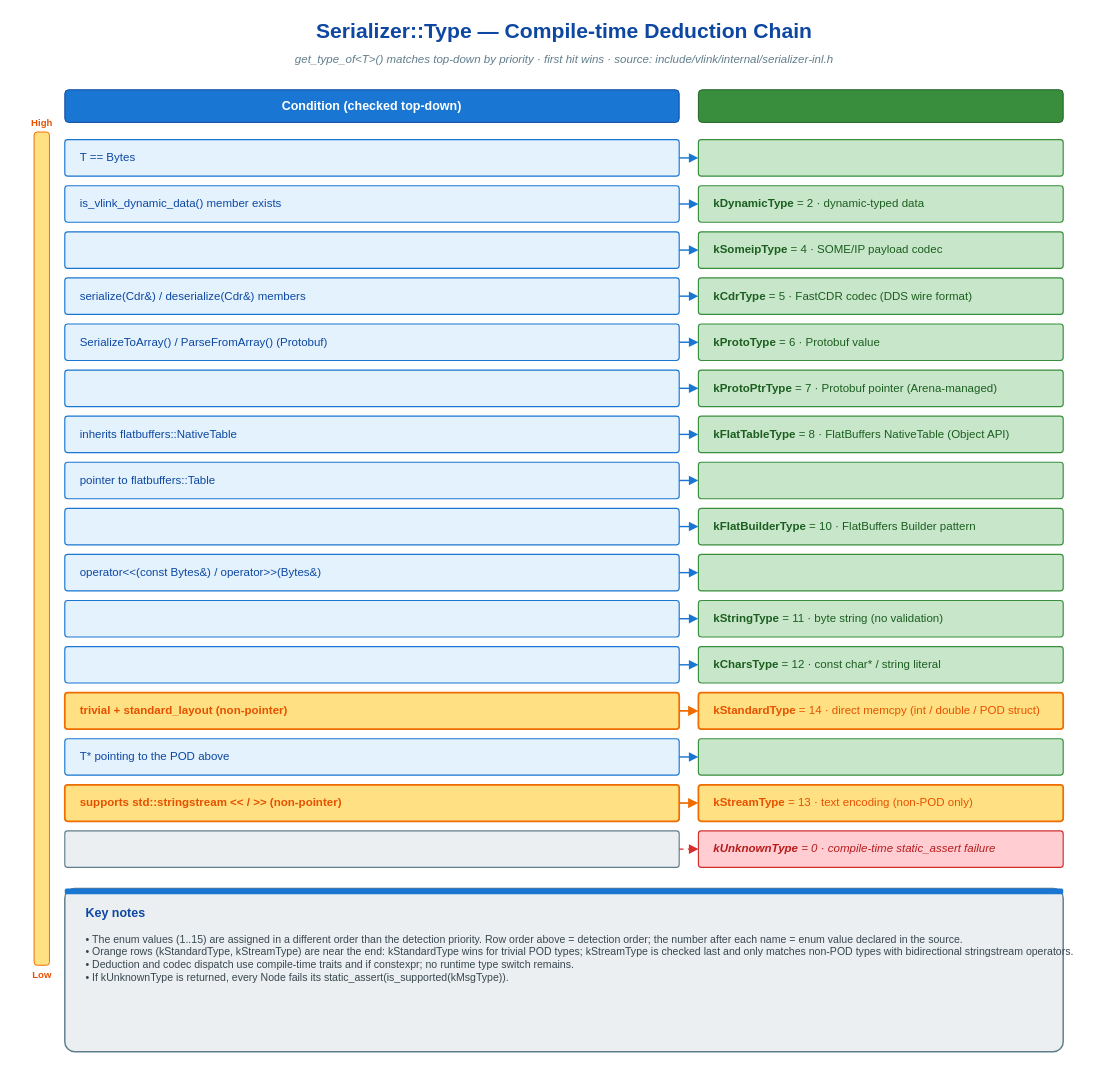
This 1117x1068 diagram has some shape labels left out. Each missing label, with the centre of its shape:
"fbb_ member + Finish() (FlatBuffers Builder)" belongs at [371,526].
"is_vlink_someip_type() member exists" belongs at [371,249].
"kBytesType = 1 · raw byte pass-through" belongs at [880,157].
"kCustomType = 3 · user-defined codec" belongs at [880,572].
"kFlatPtrType = 9 · FlatBuffers zero-copy read" belongs at [880,480].
"kStandardPtrType = 15 · POD pointer (zero-copy)" belongs at [880,756].
"non-volatile char pointer or char array" belongs at [371,664].
"none of the above match" belongs at [371,848].
"Result (Serializer::Type, enum value)" belongs at [880,105].
"T == std::string" belongs at [371,618].
"T* pointer matching the Proto condition" belongs at [371,388].
